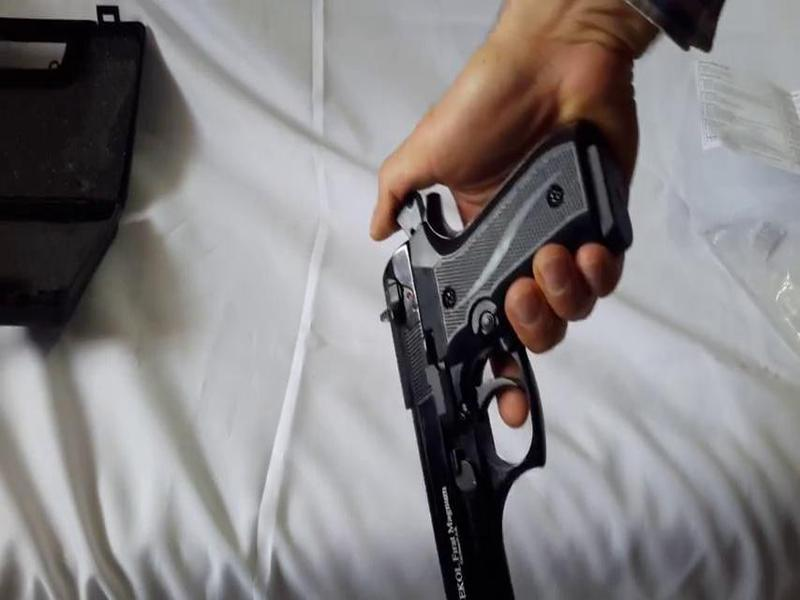Pistola: (319, 128, 643, 537)
